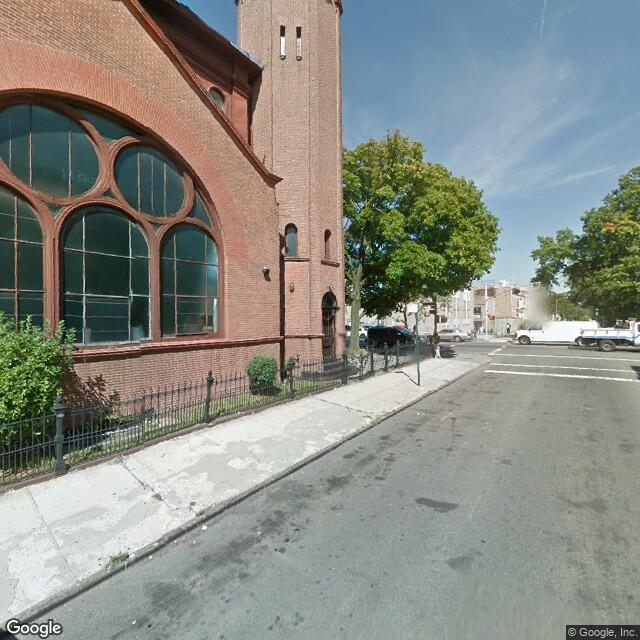litter: (184, 517, 221, 533), (118, 615, 154, 626)
